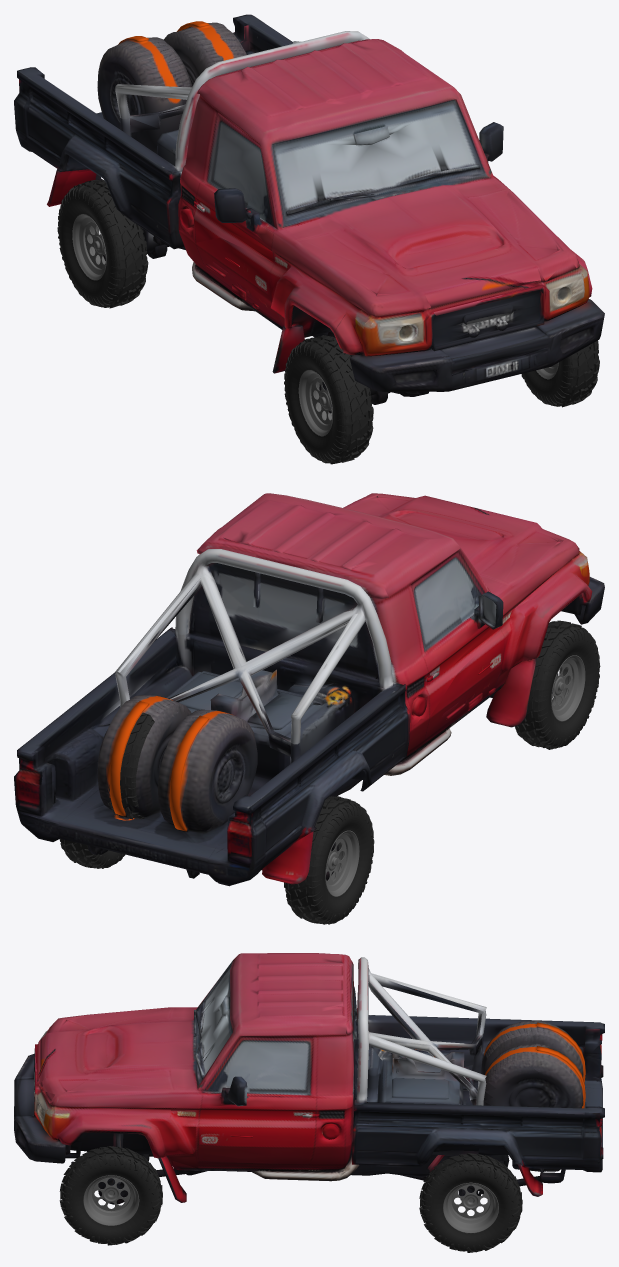
The model's file is toyota-24.glb.
The picture shows the model from 3 angles, top to bottom: view 1: azimuth 30°, elevation 25°; view 2: azimuth 150°, elevation 25°; view 3: azimuth 270°, elevation 25°; orthographic projection. The views are drawn at different scales.
Parts seen in each view (by area): view 1: chassis, WheeL_FR, Wheel_BR, Wheel_FL; view 2: chassis, WheeL_FR, Wheel_BR, Wheel_secour, Wheel_BL; view 3: chassis, Wheel_BL, Wheel_FL.
Boxes of the visible parts, x1=… form: chassis: x1=14, y1=14, x2=604, y2=413; WheeL_FR: x1=284, y1=335, x2=373, y2=464; Wheel_BR: x1=57, y1=180, x2=148, y2=308; Wheel_FL: x1=521, y1=340, x2=599, y2=407; chassis: x1=14, y1=493, x2=604, y2=886; WheeL_FR: x1=515, y1=620, x2=600, y2=749; Wheel_BR: x1=284, y1=796, x2=374, y2=924; Wheel_secour: x1=107, y1=712, x2=154, y2=819; Wheel_BL: x1=59, y1=838, x2=125, y2=868; chassis: x1=14, y1=953, x2=604, y2=1204; Wheel_BL: x1=419, y1=1153, x2=522, y2=1252; Wheel_FL: x1=59, y1=1146, x2=162, y2=1245.
Bounding box in the file's own units: 2.25 × 2.09 × 5.01.
7 materials, 1 textured.
